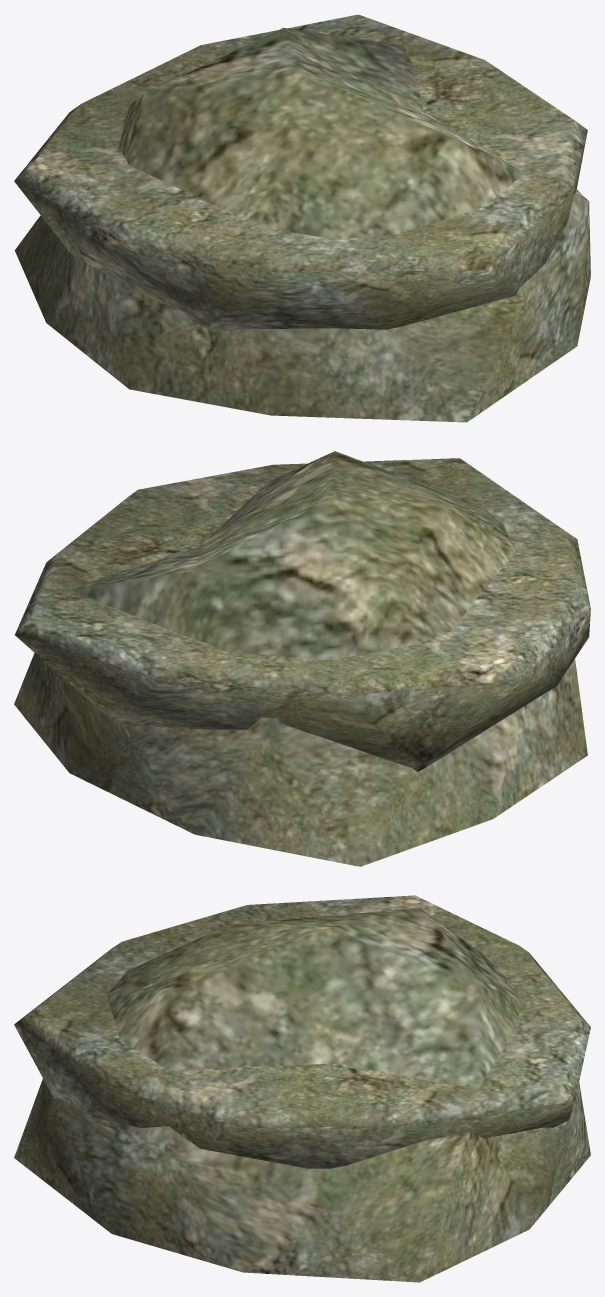
The model's file is RockSlab.gltf.
3 renders of one model, top to bottom at view 1: azimuth 30°, elevation 25°; view 2: azimuth 150°, elevation 25°; view 3: azimuth 270°, elevation 25°, orthographic. The views are drawn at different scales.
Parts seen in each view (by area): view 1: Rock, rockSlab; view 2: Rock, rockSlab; view 3: Rock, rockSlab.
Boxes of the visible parts, <box> form: Rock: <box>15,27,590,422</box>; rockSlab: <box>14,14,587,330</box>; Rock: <box>14,451,587,866</box>; rockSlab: <box>15,458,590,771</box>; Rock: <box>14,908,590,1282</box>; rockSlab: <box>14,895,590,1168</box>.
Bounding box in the file's own units: 39.97 × 17.63 × 40.65.
Materials: 2 (2 with a texture image).
